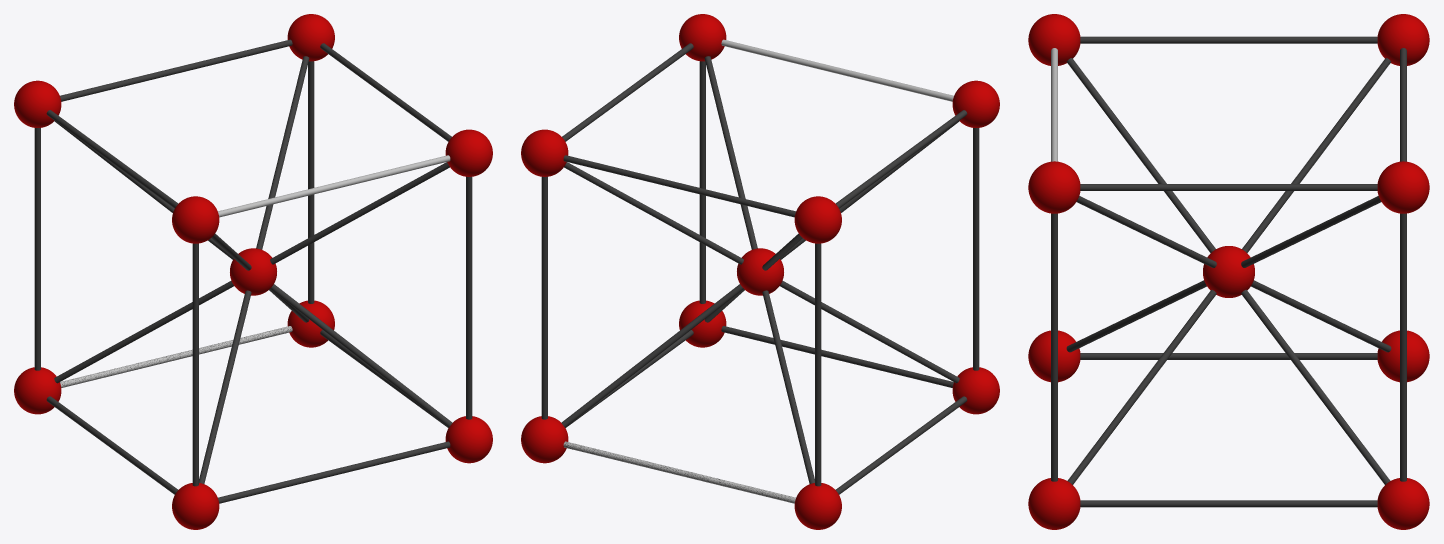
Rendered from bcc-lattice.glb.
The picture shows the model from 3 angles, left to right: view 1: azimuth 30°, elevation 25°; view 2: azimuth 150°, elevation 25°; view 3: azimuth 270°, elevation 25°; orthographic projection. The views are drawn at different scales.
Parts seen in each view (by area): view 1: Mirror1[5] - Part, Mirror1[3] - Part, LPattern1[2] - Part, LPattern1[3] - Part, Mirror1[2] - Part, Surface-Revolve3 - Part, Surface-Trim8[2] - Part, Surface-Trim7[1] - Part, Mirror1[8] - Part, Mirror2[2] - Part, Mirror1[6] - Part, Surface-Revolve4 - Part (+16 smaller); view 2: Mirror1[2] - Part, Mirror1[8] - Part, Surface-Revolve3 - Part, LPattern1[1] - Part, Mirror1[5] - Part, LPattern1[2] - Part, Mirror2[2] - Part, Mirror2[3] - Part, Mirror1[3] - Part, Surface-Trim8[2] - Part, Mirror1[6] - Part, Surface-Revolve4 - Part (+16 smaller); view 3: Surface-Trim4[2] - Part, Mirror1[4] - Part, Mirror1[3] - Part, Mirror1[8] - Part, LPattern1[1] - Part, LPattern1[3] - Part, Mirror1[7] - Part, Mirror1[2] - Part, Mirror1[5] - Part, Surface-Revolve4 - Part, Surface-Trim3[1] - Part, Surface-Trim7[1] - Part (+13 smaller).
Part boxes in pixels (x1,y1,x2,y2): Mirror1[5] - Part: (172,196,219,243); Mirror1[3] - Part: (445,129,492,176); LPattern1[2] - Part: (172,483,219,529); LPattern1[3] - Part: (445,416,492,463); Mirror1[2] - Part: (14,80,61,127); Surface-Revolve3 - Part: (14,367,61,414); Surface-Trim8[2] - Part: (192,243,198,486); Surface-Trim7[1] - Part: (466,176,472,419); Mirror1[8] - Part: (287,14,334,61); Mirror2[2] - Part: (34,128,40,370); Mirror1[6] - Part: (218,155,450,217); Surface-Revolve4 - Part: (230,248,276,295); Mirror1[2] - Part: (794,196,841,243); Mirror1[8] - Part: (521,129,568,176); Surface-Revolve3 - Part: (794,483,841,529); LPattern1[1] - Part: (521,416,568,463); Mirror1[5] - Part: (952,80,999,127); LPattern1[2] - Part: (952,367,999,414); Mirror2[2] - Part: (815,243,821,486); Mirror2[3] - Part: (541,176,547,419); Mirror1[3] - Part: (679,14,726,61); Surface-Trim8[2] - Part: (973,128,979,370); Mirror1[6] - Part: (721,39,953,101); Surface-Revolve4 - Part: (737,248,783,295); Surface-Trim4[2] - Part: (1080,500,1377,507); Mirror1[4] - Part: (1080,36,1377,43); Mirror1[3] - Part: (1028,161,1080,213); Mirror1[8] - Part: (1377,161,1429,213); LPattern1[1] - Part: (1377,478,1429,529); LPattern1[3] - Part: (1028,478,1080,529); Mirror1[7] - Part: (1080,184,1377,190); Mirror1[2] - Part: (1377,14,1429,65); Mirror1[5] - Part: (1028,14,1080,65); Surface-Revolve4 - Part: (1203,246,1254,297); Surface-Trim3[1] - Part: (1080,353,1377,359); Surface-Trim7[1] - Part: (1051,213,1057,481).
Size of the model in its own units: 0.0292 by 0.0292 by 0.0292.
